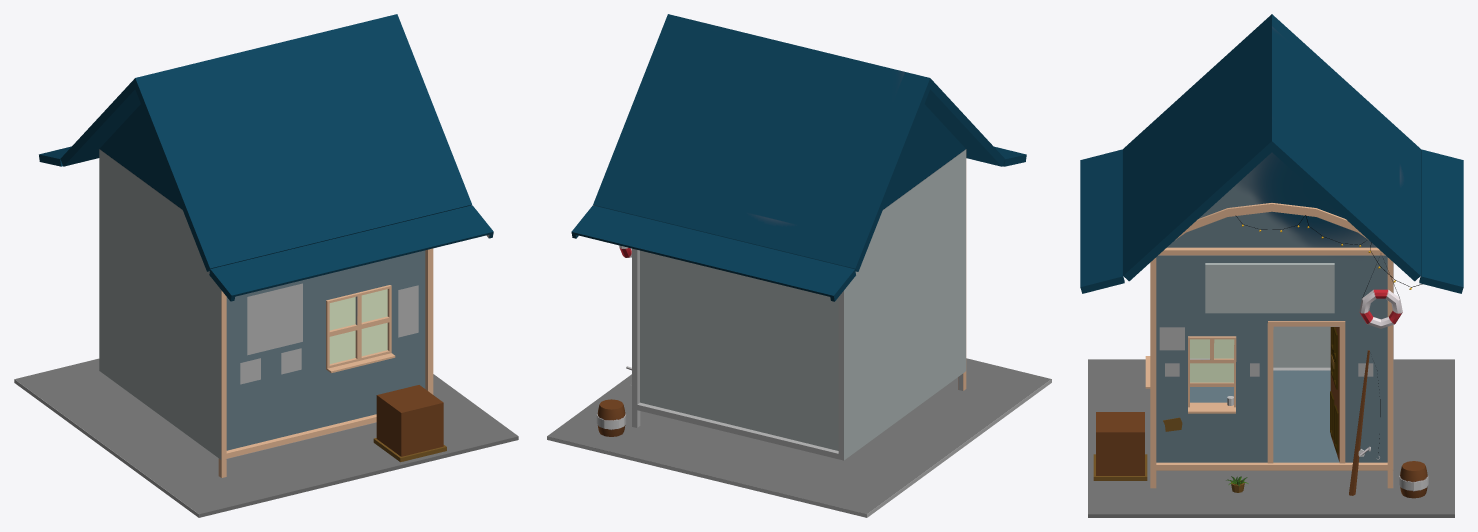
The model's file is brit lv2.glb.
3 views of the same model, side by side, from view 1: azimuth 30°, elevation 25°; view 2: azimuth 150°, elevation 25°; view 3: azimuth 270°, elevation 25° (orthographic).
Visible parts, largest first — view 1: Cube.001; view 2: Cube.001; view 3: Cube.001.
Boxes of the visible parts, x1,y1,x2,y2 form: Cube.001: (14,14,518,517); Cube.001: (547,14,1051,517); Cube.001: (1080,14,1463,517).
Size of the model in its own units: 1.87 by 2.04 by 1.96.
Materials: 1 (1 with a texture image).
